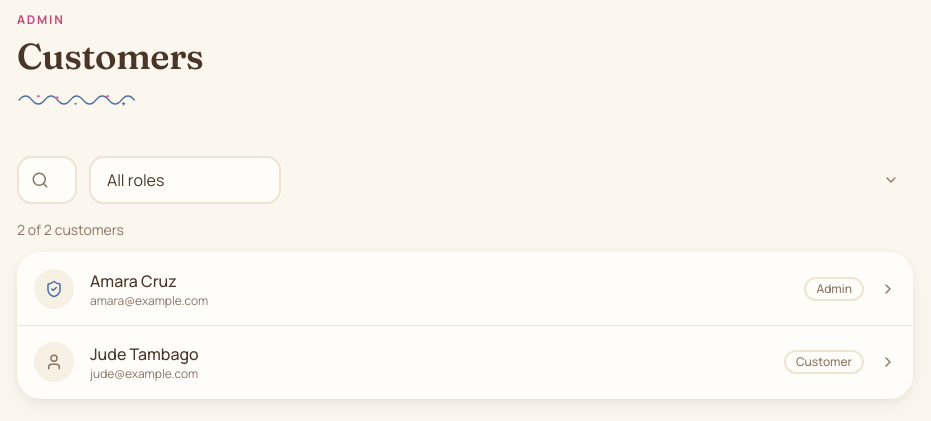
Test: Customers › filters the list by role
Expected: the text "2 of 2 customers" is shown, [17,220,124,239]
Select "Admin" in the dropdown named "Filter by role". click: (185, 180)
box: [89,156,281,204]
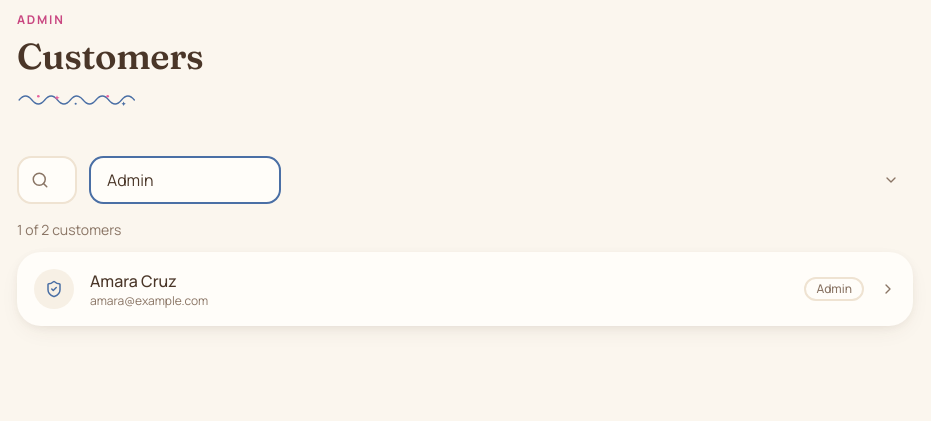
Expected: the text "Amara Cruz" is shown, [90,270,177,292]
Expected: the text "1 of 2 customers" is shown, [17,220,121,239]
Expected: the link "Jude Tambago" is gone
